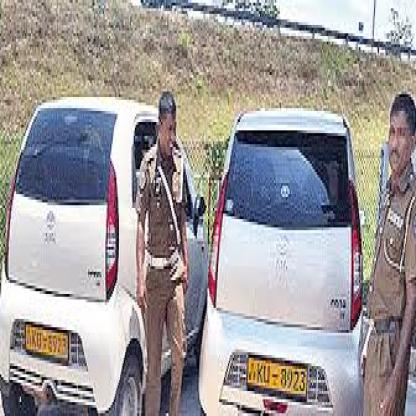car back: (200, 105, 361, 416)
number plate: (245, 359, 306, 395)
